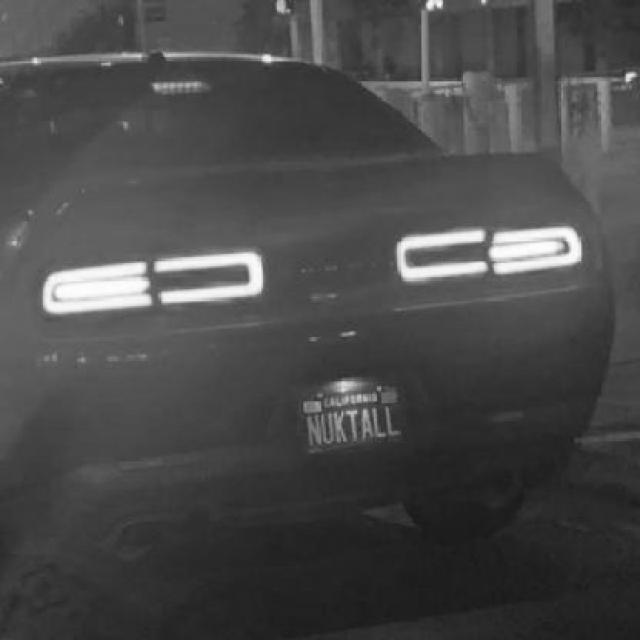licenseplate: (289, 378, 406, 458)
